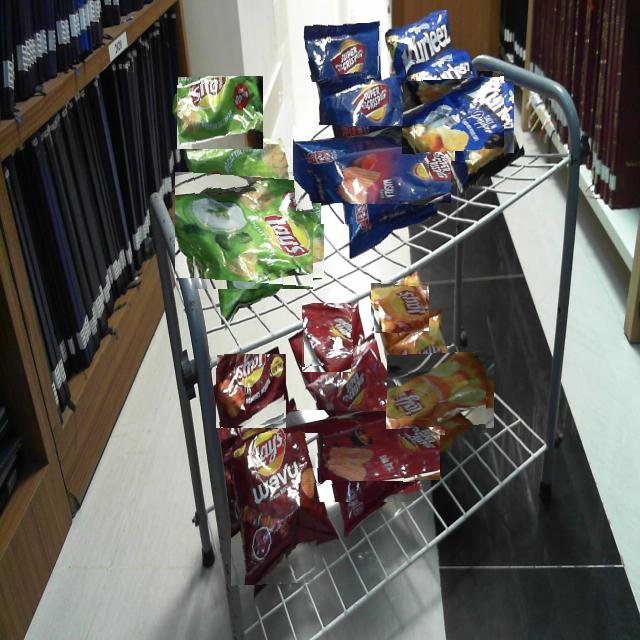Plastic: (185, 161, 313, 289), (231, 433, 324, 586), (313, 105, 431, 224), (305, 389, 418, 502), (412, 71, 504, 163), (395, 346, 486, 437), (177, 76, 263, 149), (216, 354, 286, 428), (305, 23, 382, 83), (297, 308, 357, 367), (388, 10, 452, 62), (374, 280, 427, 333)
